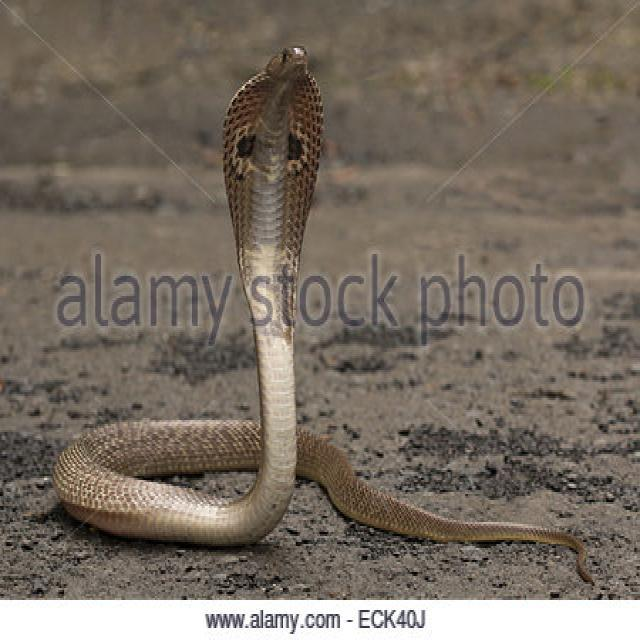Snake: (53, 32, 604, 592)
